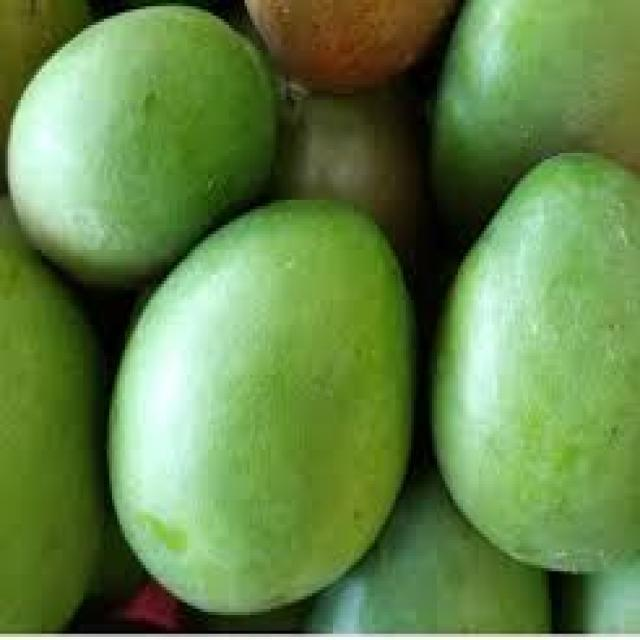Mango: (98, 189, 412, 614), (437, 143, 640, 574), (7, 9, 284, 281), (0, 201, 117, 637), (429, 0, 640, 240), (298, 476, 560, 640), (242, 0, 454, 86)
